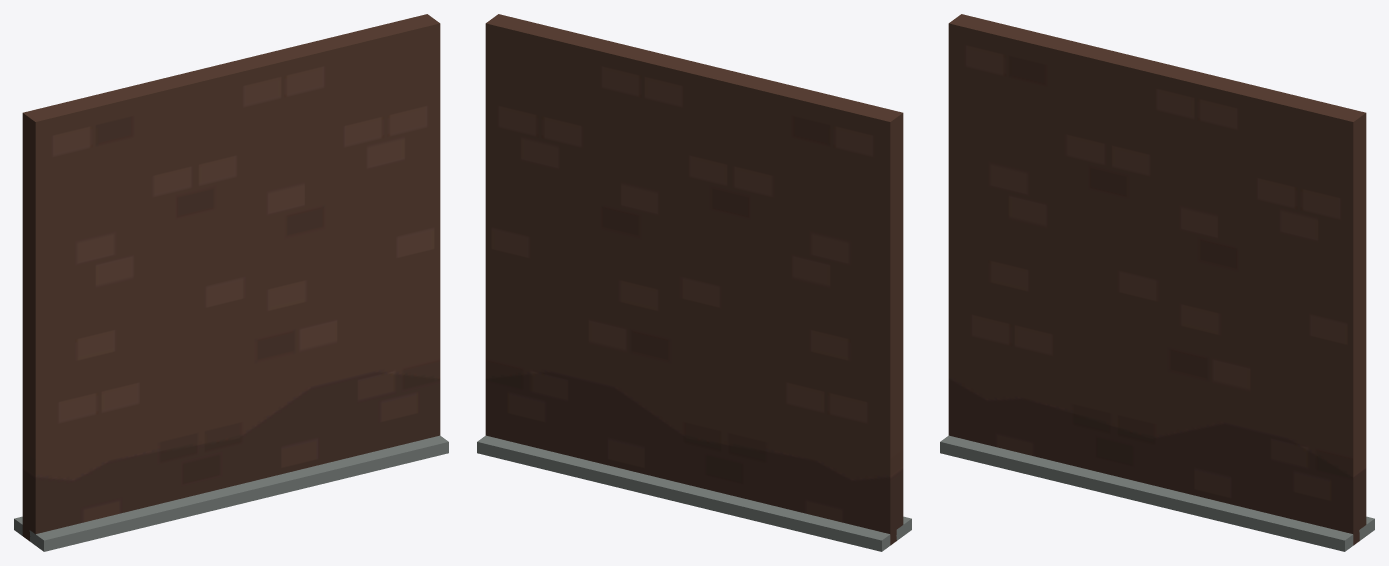
The model's file is SM_Bld_Interior_Wall_01.obj.
3 views of the same model, side by side, from view 1: azimuth 30°, elevation 25°; view 2: azimuth 150°, elevation 25°; view 3: azimuth 330°, elevation 25° (orthographic).
Parts seen in each view (by area): view 1: SM_Bld_Interior_Wall_01_0; view 2: SM_Bld_Interior_Wall_01_0; view 3: SM_Bld_Interior_Wall_01_0.
Boxes of the visible parts, left/top/right/bottom form: SM_Bld_Interior_Wall_01_0: left=14, top=14, right=448, bottom=551; SM_Bld_Interior_Wall_01_0: left=477, top=14, right=911, bottom=551; SM_Bld_Interior_Wall_01_0: left=940, top=14, right=1374, bottom=551.
Size of the model in its own units: 3 by 3 by 0.3855.
Materials: 1 (1 with a texture image).
